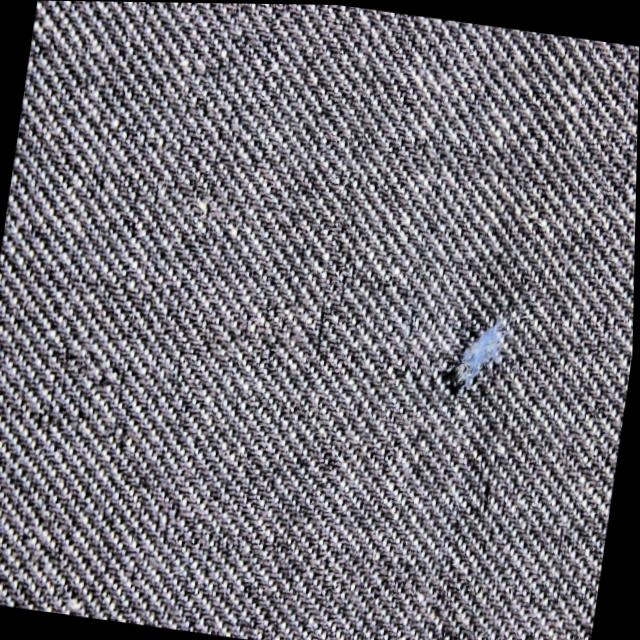Hole: (443, 315, 510, 393)
